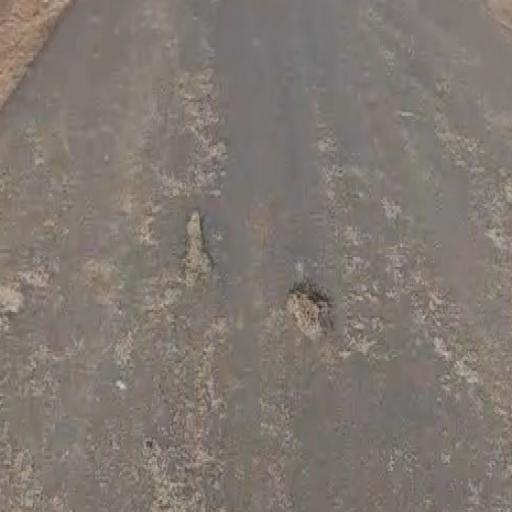edge_damage: (122, 151, 377, 424)
